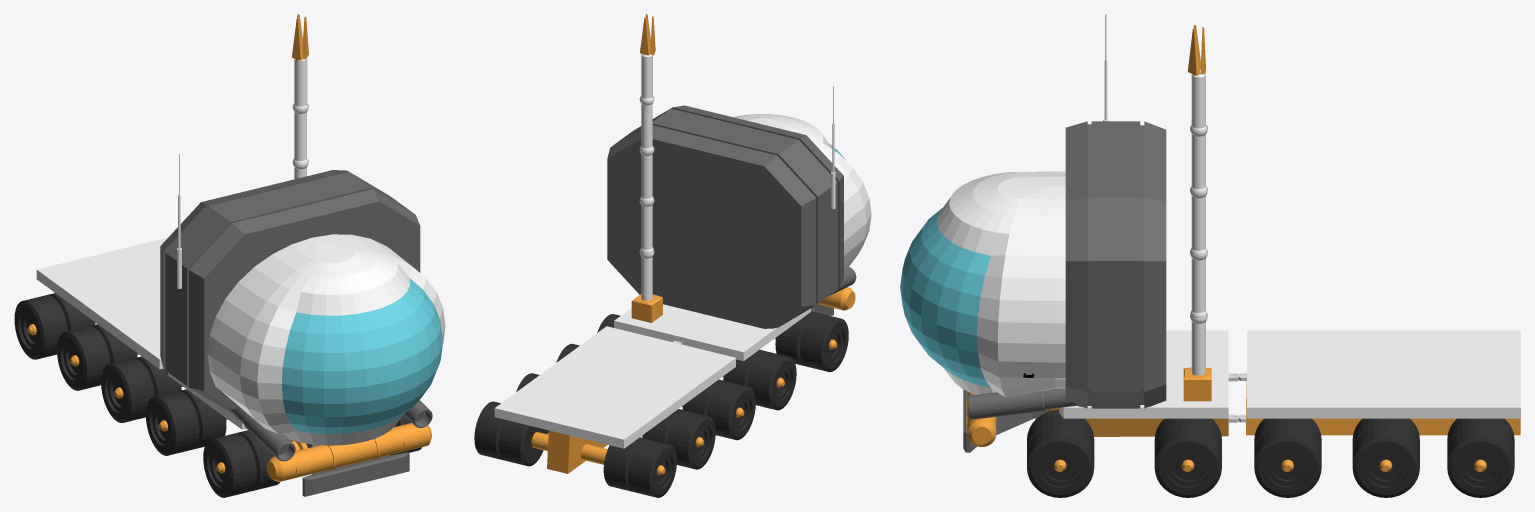
The model's file is hover.fbx.
3 views of the same model, side by side, from view 1: azimuth 30°, elevation 25°; view 2: azimuth 150°, elevation 25°; view 3: azimuth 270°, elevation 25° (orthographic). The views are drawn at different scales.
Parts seen in each view (by area): view 1: Cube, CockpitBox, CockpitGlass, Cube.002, Cylinder.018, WheelL2, WheelL1, WheelL3, WheelL4, WheelL5, Cube.007, Cylinder.005 (+4 smaller); view 2: Cube, Cube.002, Cube.001, CockpitBox, WheelL5, WheelL1, WheelL2, WheelR5, WheelL3, WheelL4, Cube.013, Cylinder.012 (+7 smaller); view 3: Cube, Cube.002, CockpitBox, CockpitGlass, CockpitDoor, Cube.001, WheelR1, WheelR5, WheelR3, WheelR4, WheelR2, Cylinder.003 (+10 smaller).
Part boxes in pixels (x1,y1,x2,y2): Cube: (160, 170, 420, 412); CockpitBox: (207, 234, 445, 445); CockpitGlass: (281, 278, 442, 434); Cube.002: (36, 237, 167, 369); Cylinder.018: (266, 423, 431, 481); WheelL2: (146, 389, 226, 455); WheelL1: (203, 430, 279, 497); WheelL3: (101, 356, 181, 422); WheelL4: (57, 324, 137, 390); WheelL5: (14, 293, 94, 359); Cube.007: (302, 443, 409, 496); Cylinder.005: (230, 405, 295, 461); Cube: (607, 105, 843, 328); Cube.002: (494, 326, 735, 448); Cube.001: (614, 304, 810, 361); CockpitBox: (733, 114, 871, 270); WheelL5: (603, 437, 676, 497); WheelL1: (775, 311, 848, 372); WheelL2: (723, 349, 796, 410); WheelR5: (474, 401, 547, 466); WheelL3: (682, 379, 755, 440); WheelL4: (642, 409, 715, 469); Cube.013: (547, 430, 607, 473); Cylinder.012: (531, 432, 665, 475); Cube: (1065, 121, 1166, 408); Cube.002: (1247, 330, 1520, 418); CockpitBox: (936, 171, 1065, 397); CockpitGlass: (900, 208, 990, 387); CockpitDoor: (997, 277, 1055, 378); Cube.001: (1059, 330, 1228, 418); WheelR1: (1027, 409, 1094, 497); WheelR5: (1447, 418, 1514, 497); WheelR3: (1254, 418, 1321, 497); WheelR4: (1352, 418, 1419, 497); WheelR2: (1154, 418, 1221, 497); Cylinder.003: (967, 388, 1076, 419).
Bounding box in the file's own units: 220 × 364 × 461.
